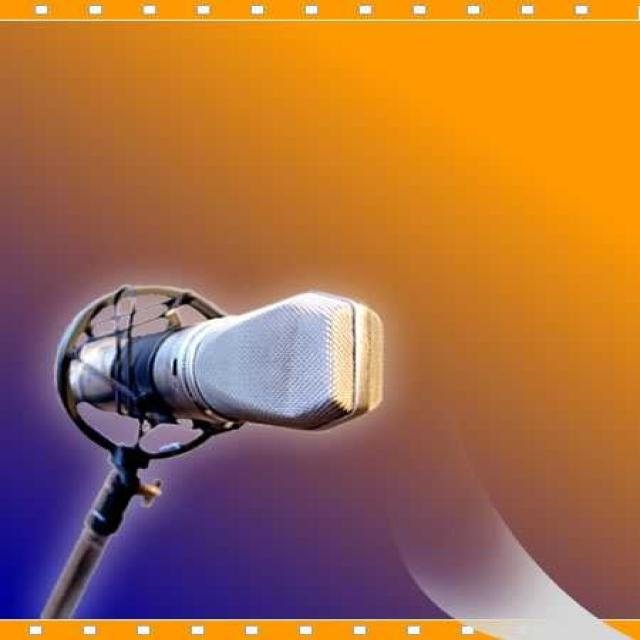microphone: (63, 287, 379, 438)
